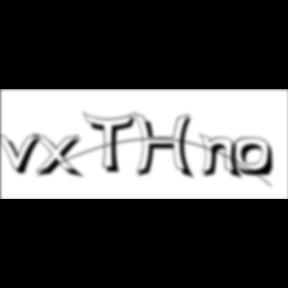H: (133, 112, 199, 182)
T: (83, 112, 141, 176)
n: (200, 132, 246, 181)
o: (234, 137, 276, 179)
v: (0, 131, 48, 177)
x: (33, 132, 88, 181)
